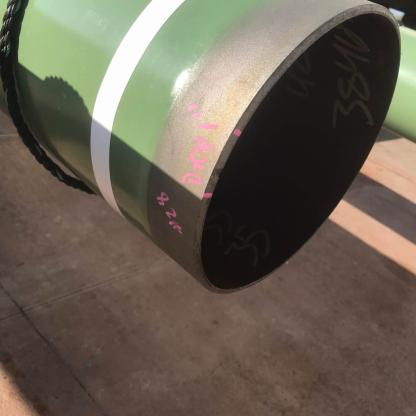Bevel: (212, 162, 225, 181)
